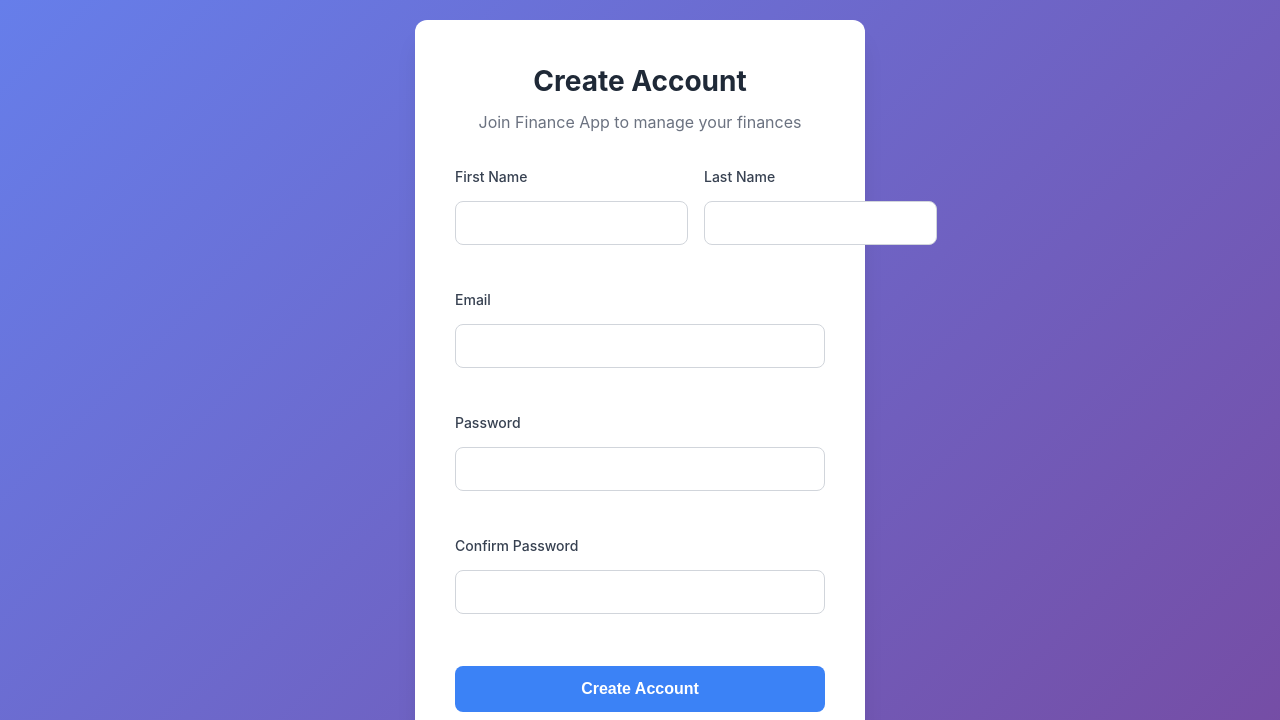
Test case: Register Component › validates password confirmation
The image size is (1280, 720).
Type "Password123" into the password field labelled "Password". click: (640, 469)
box: [455,447,825,491]
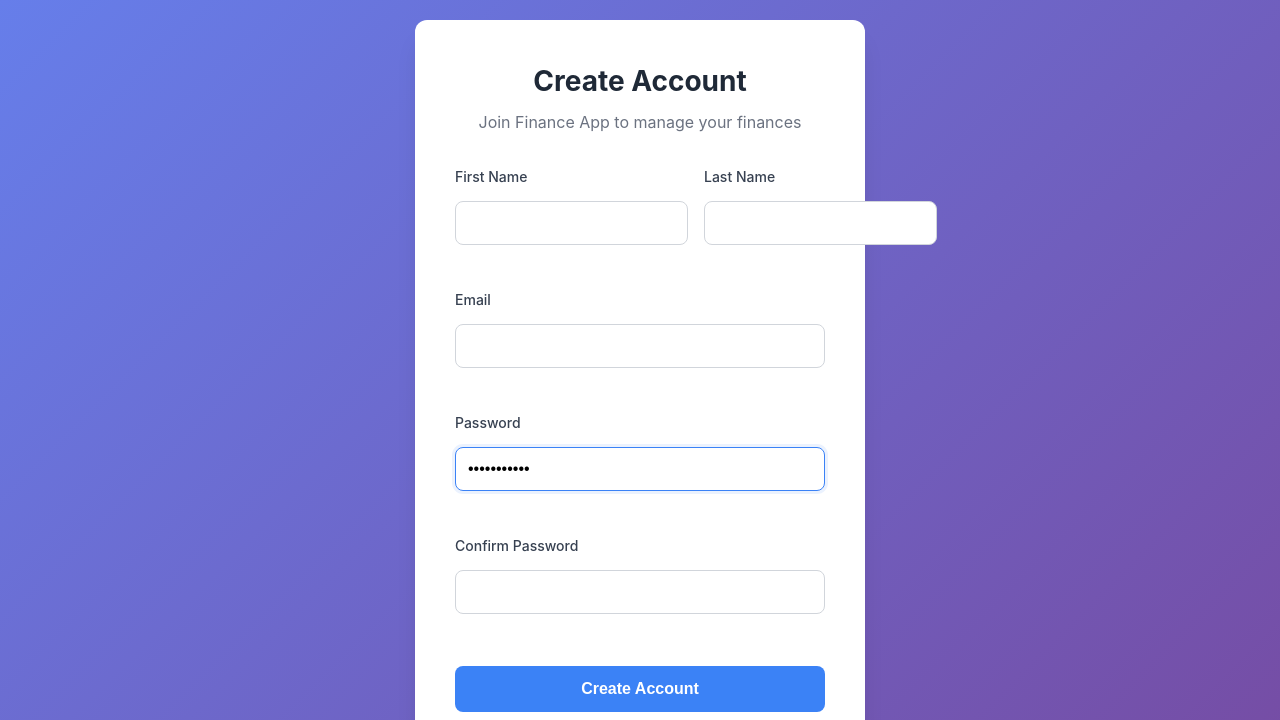
Type "DifferentPassword123" into the password field labelled "Confirm Password". click: (640, 592)
box: [455,570,825,614]
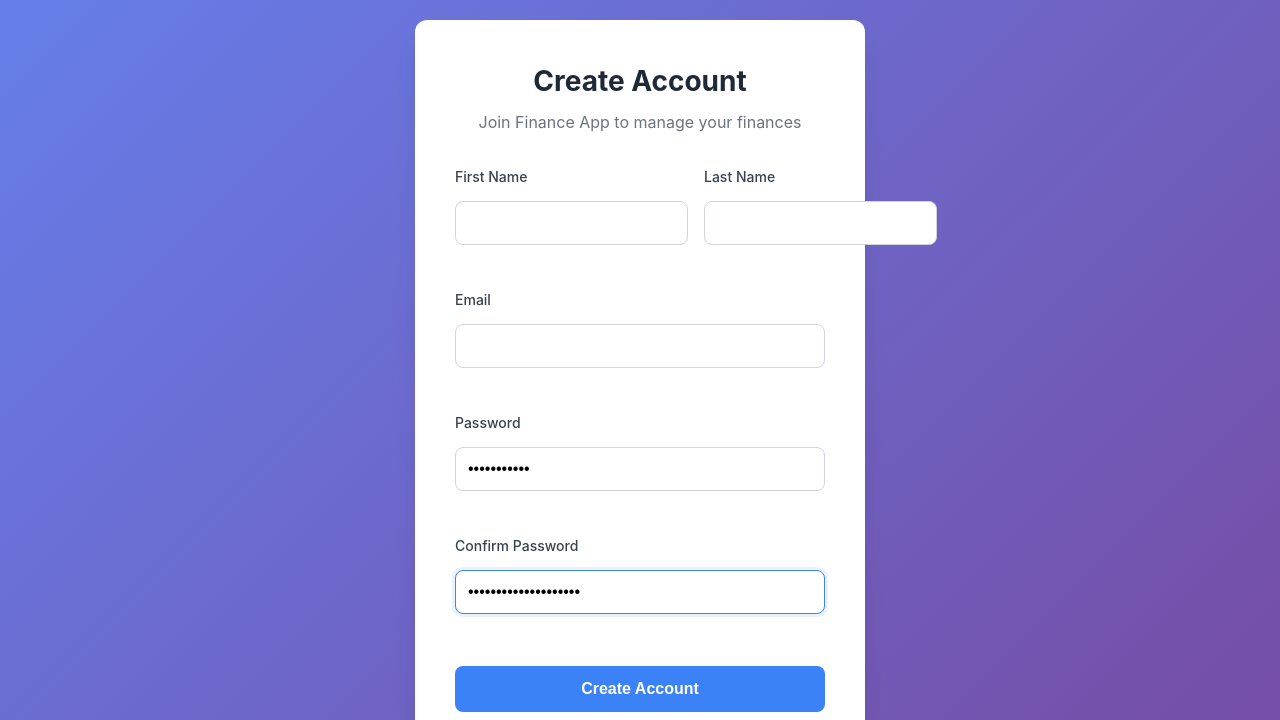
Click the button "Create Account". click: (640, 689)
box: [455,666,825,712]
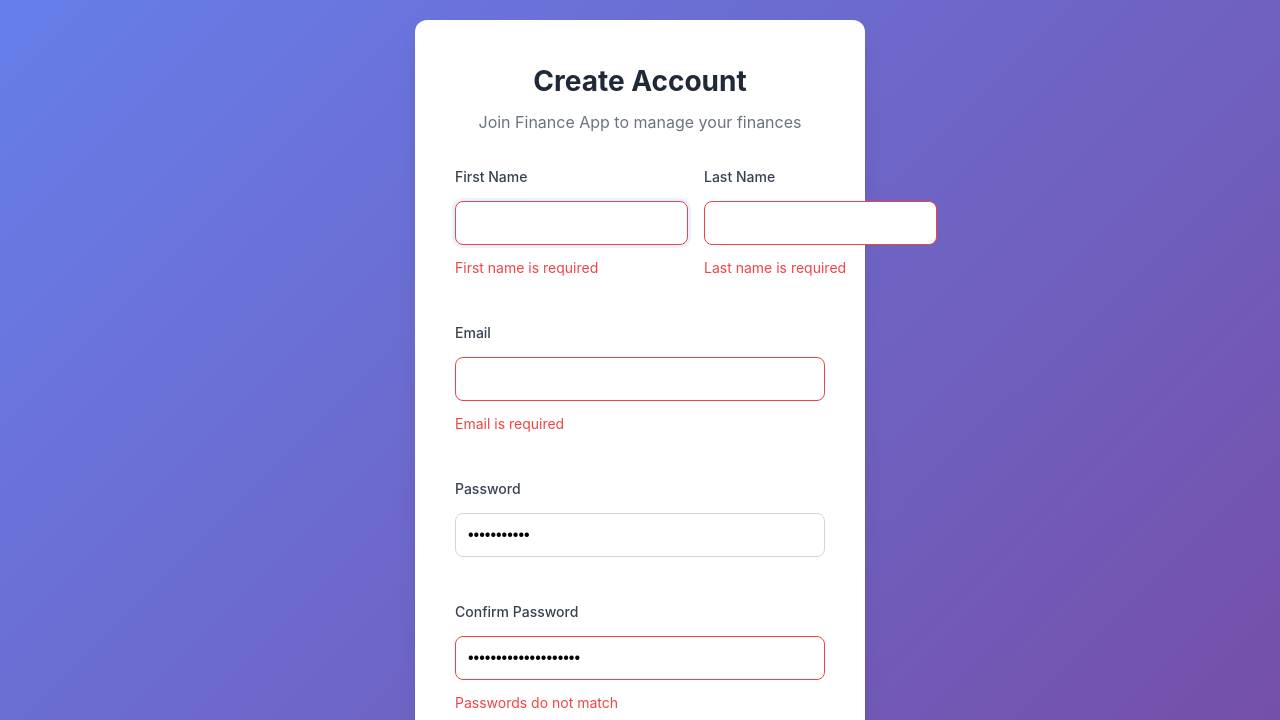
Expected: the text "Passwords do not match" is shown, [455,694,618,711]
